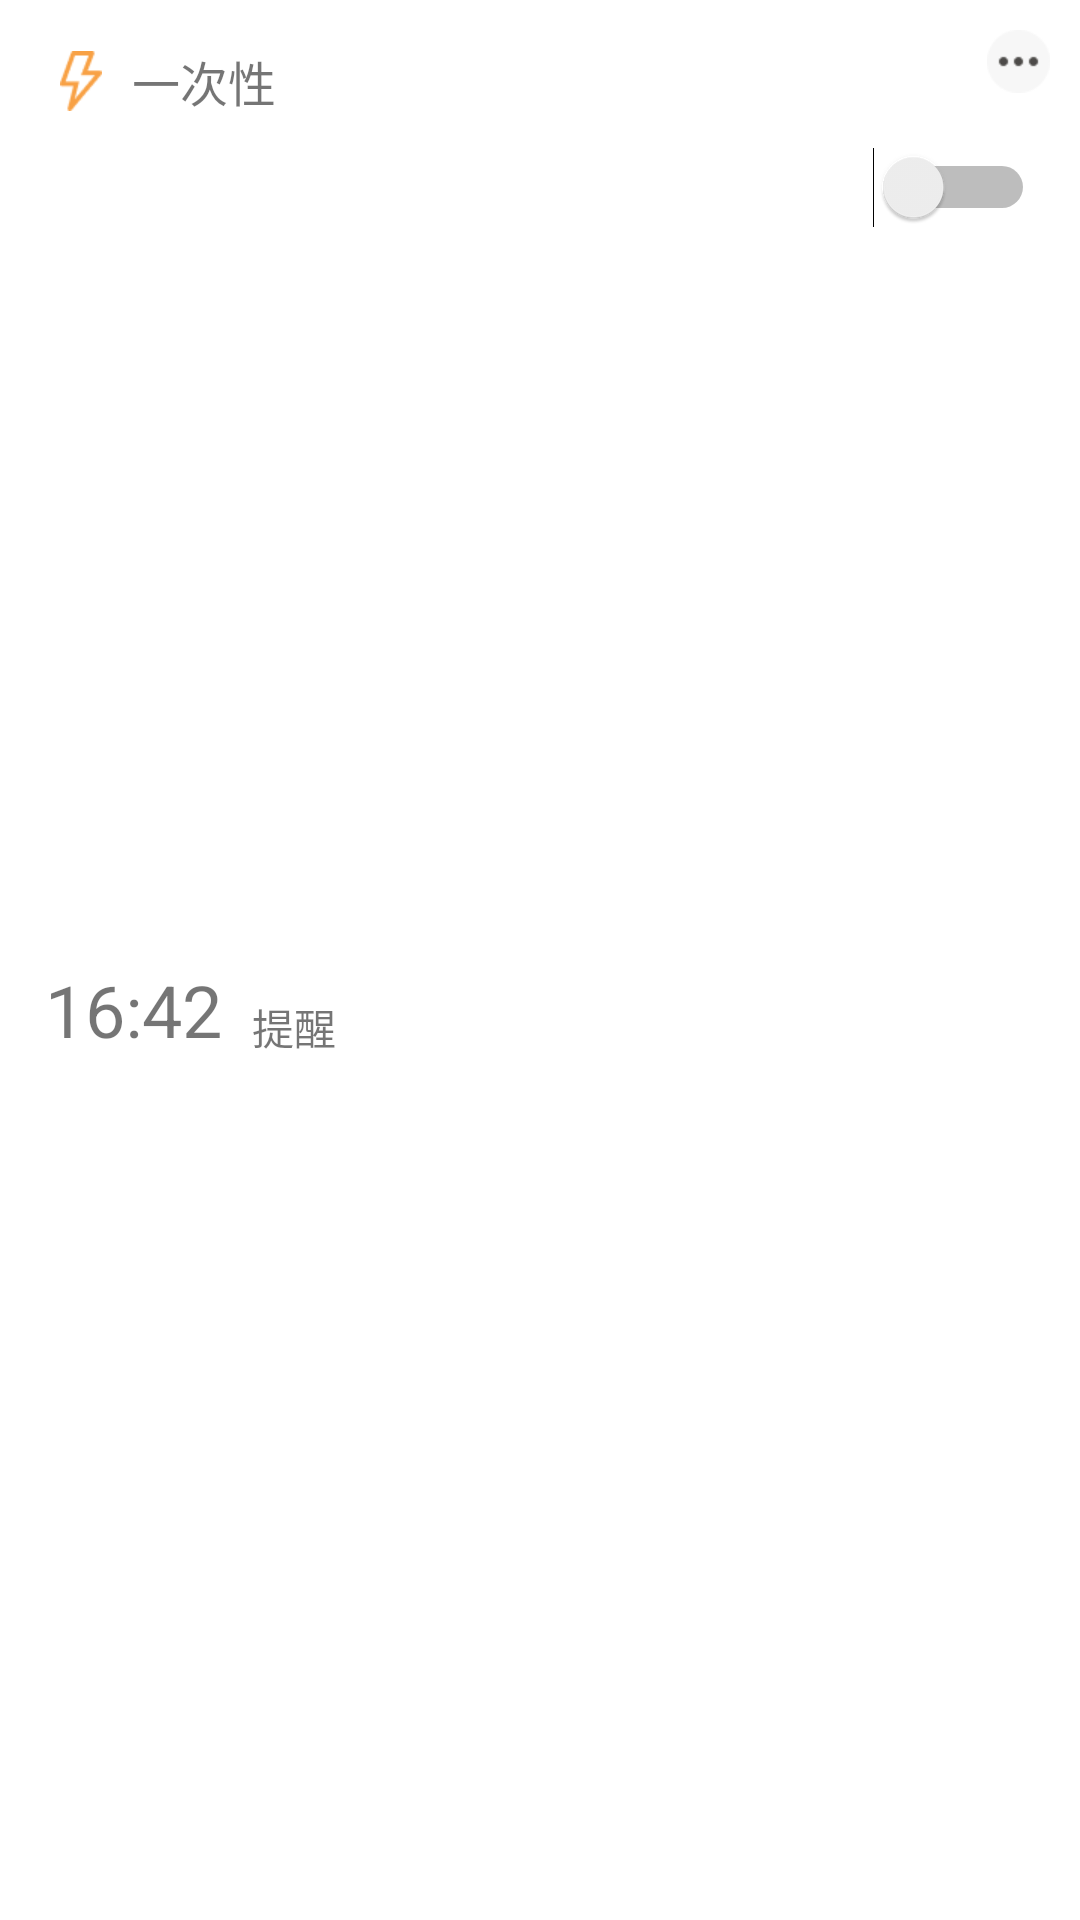

Icons on this 1080x1920 Android screen, each with the point to tap as (x,y):
clock item more: (1018,61)
